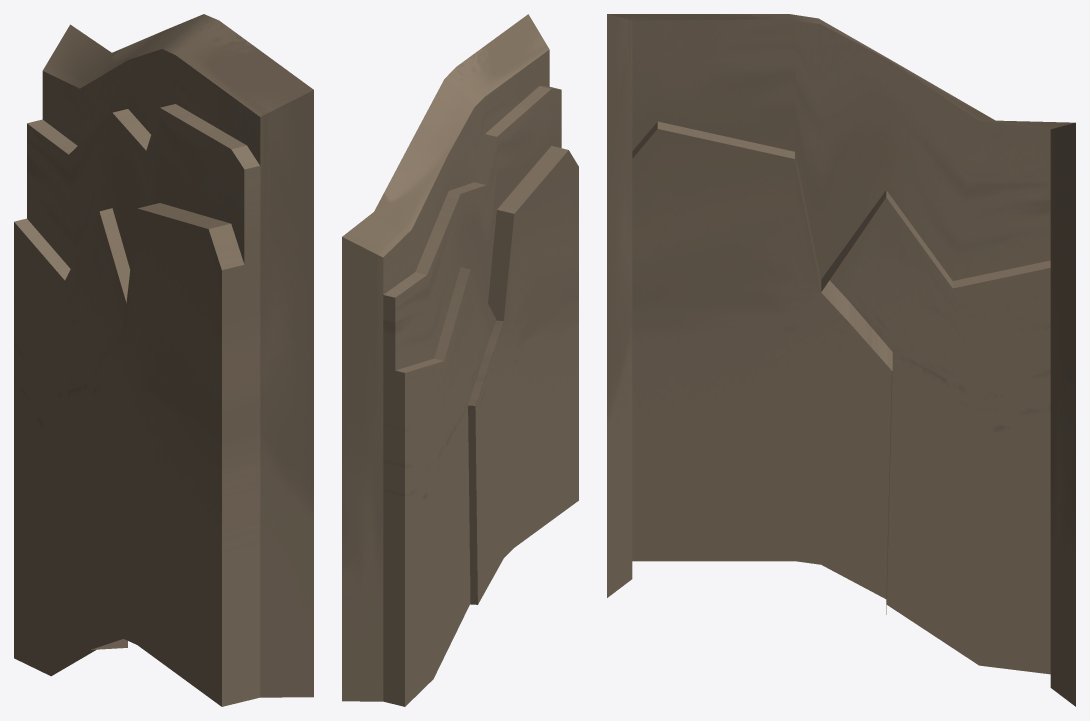
File: slope_wall_right.fbx
3 renders of one model, left to right at view 1: azimuth 30°, elevation 25°; view 2: azimuth 150°, elevation 25°; view 3: azimuth 270°, elevation 25°, orthographic. The views are drawn at different scales.
Visible parts, largest first — view 1: slope_wall_right; view 2: slope_wall_right; view 3: slope_wall_right.
Part boxes in pixels (x1,y1,x2,y2): slope_wall_right: (14, 14, 313, 706); slope_wall_right: (342, 14, 578, 706); slope_wall_right: (607, 14, 1075, 706).
Bounding box in the file's own units: 1.94 × 16.9 × 10.36.
Materials: 1 (1 with a texture image).
